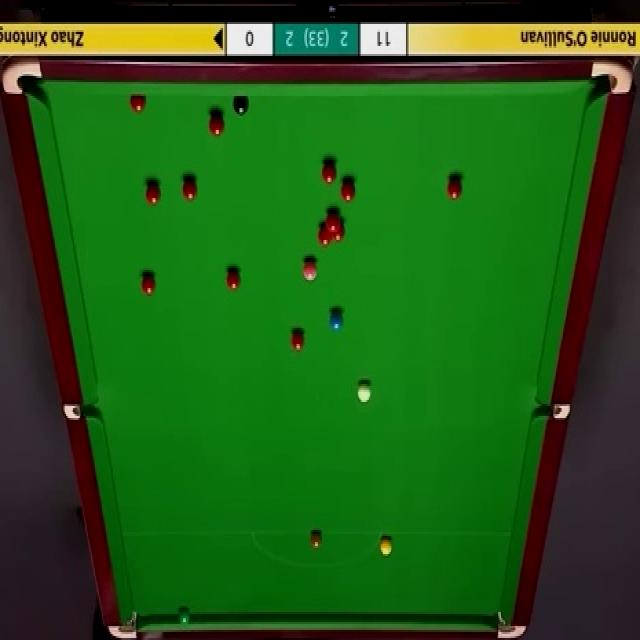pocket: (591, 57, 633, 95), (3, 58, 43, 96), (108, 609, 138, 640), (497, 608, 526, 640), (533, 403, 572, 420), (65, 403, 99, 420)
